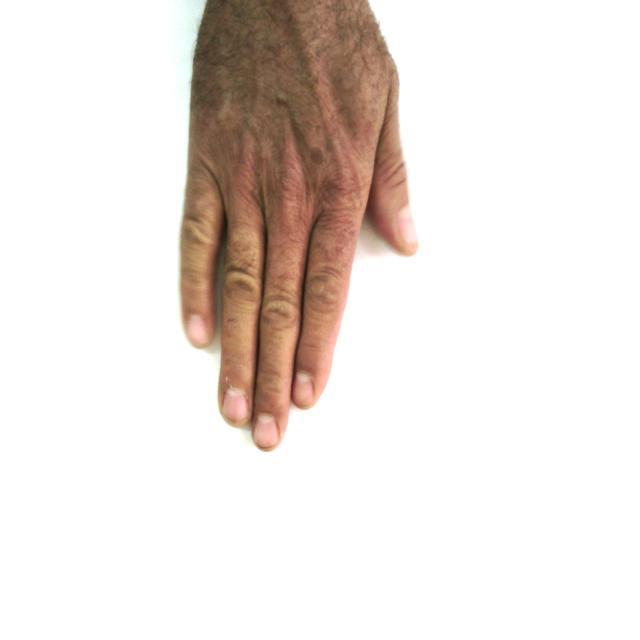Fingernail: (224, 390, 248, 423), (398, 209, 418, 248), (255, 415, 278, 448), (293, 373, 314, 407), (187, 315, 208, 346)
